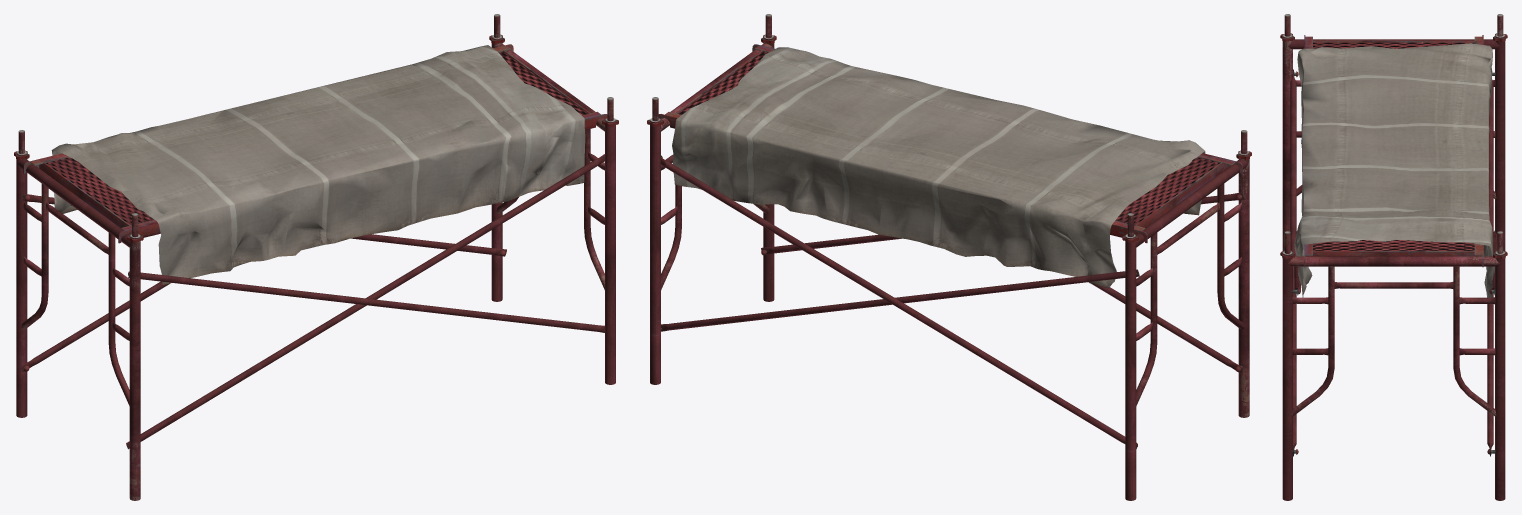
Rendered from scaffolding-3.FBX.
3 views of the same model, side by side, from view 1: azimuth 30°, elevation 25°; view 2: azimuth 150°, elevation 25°; view 3: azimuth 270°, elevation 25° (orthographic). The views are drawn at different scales.
Visible parts, largest first — view 1: scaffolding-3_LOD0; view 2: scaffolding-3_LOD0; view 3: scaffolding-3_LOD0.
Part boxes in pixels (bbox=[...]): scaffolding-3_LOD0: bbox=[14, 14, 618, 500]; scaffolding-3_LOD0: bbox=[647, 14, 1251, 500]; scaffolding-3_LOD0: bbox=[1280, 14, 1507, 500].
Size of what is drawn, in the model's own units: 256 by 142 by 110.
